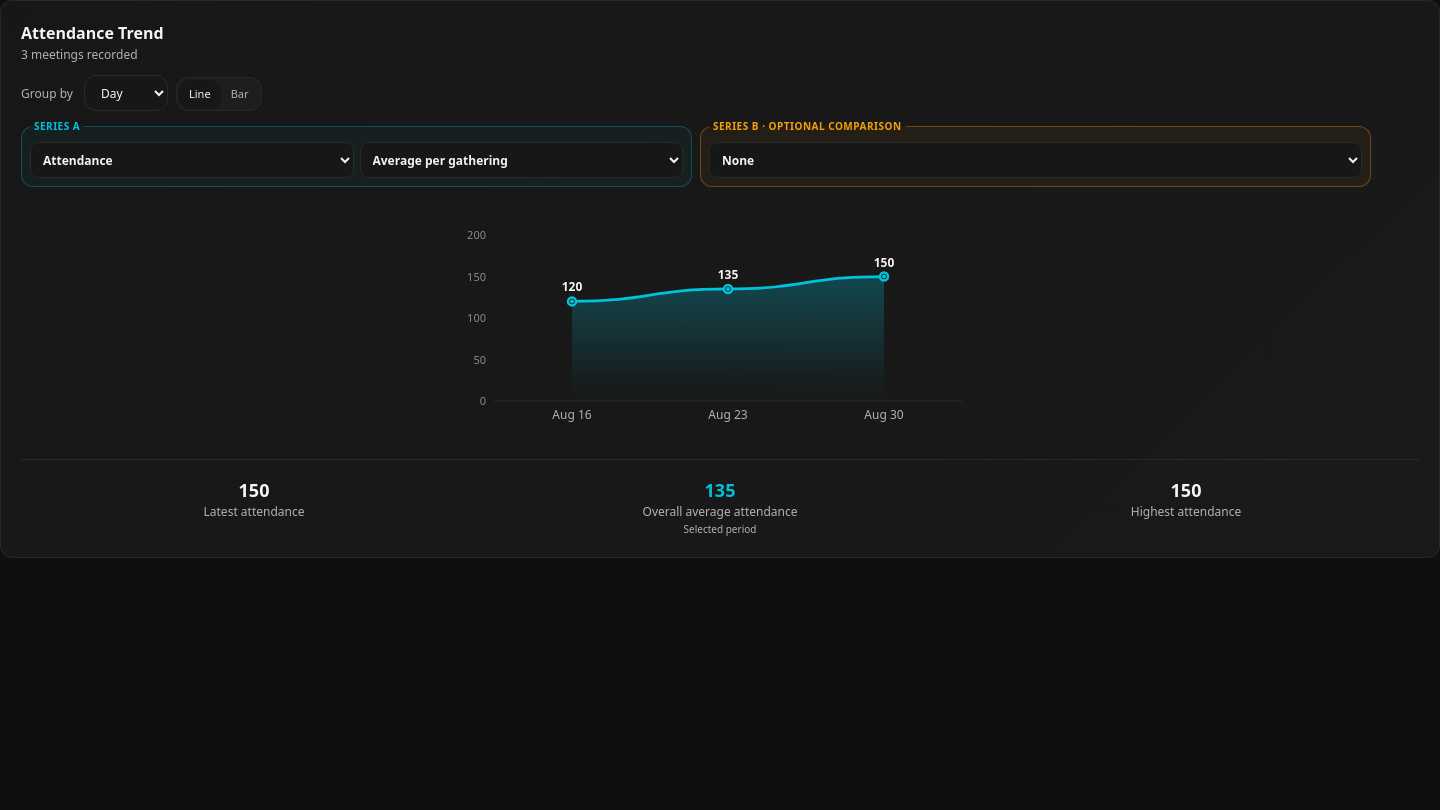
AttendanceTrend › can compare average attendance with actual total salvation decisions
The width and height of the screenshot is (1440, 810).
Step 1. Select "Month" in the dropdown named "Chart time scale" → (126,93), box [84,75,168,111]
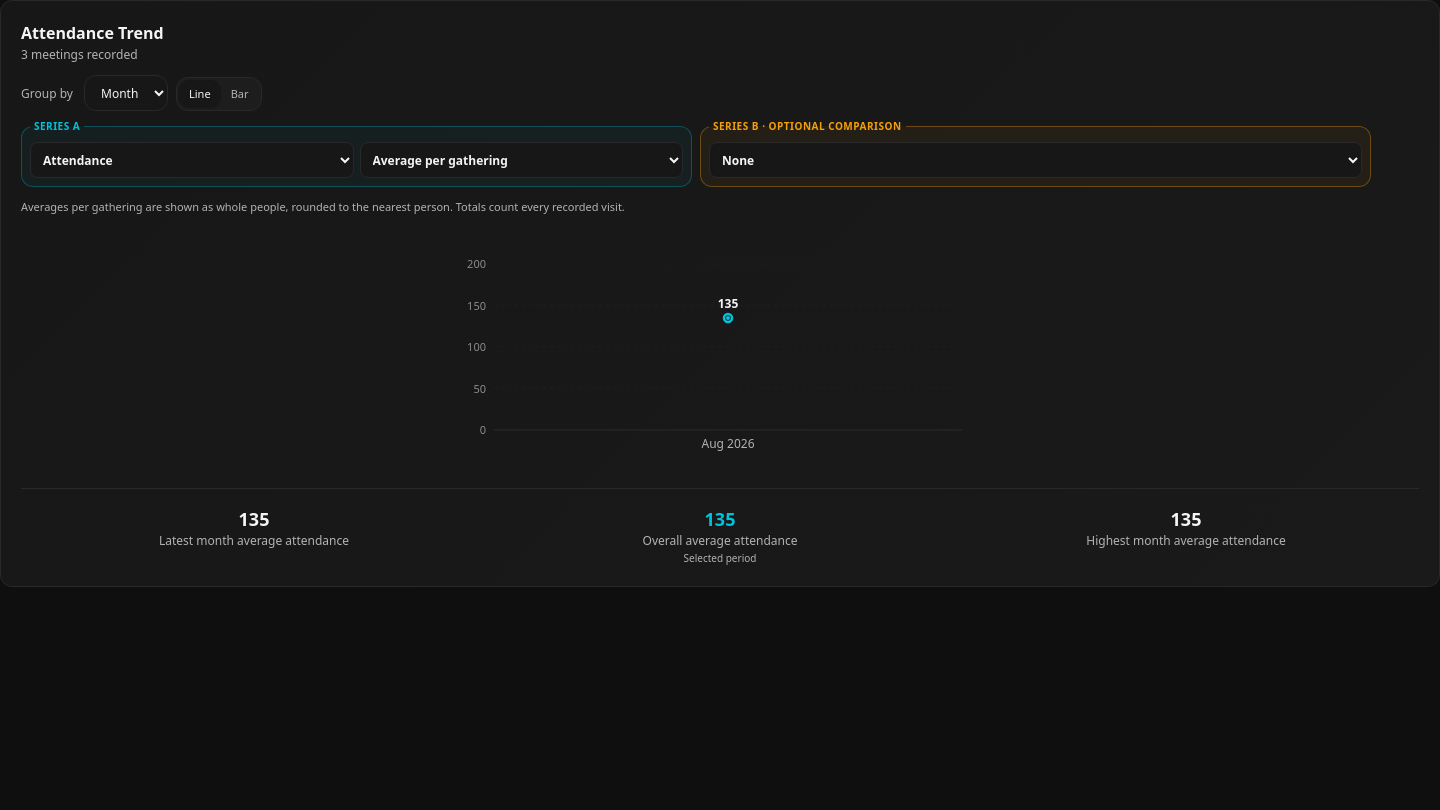
Step 2. Select "Salvation decisions" in the dropdown named "Compare attendance with" → (1036,160), box [709,142,1362,178]
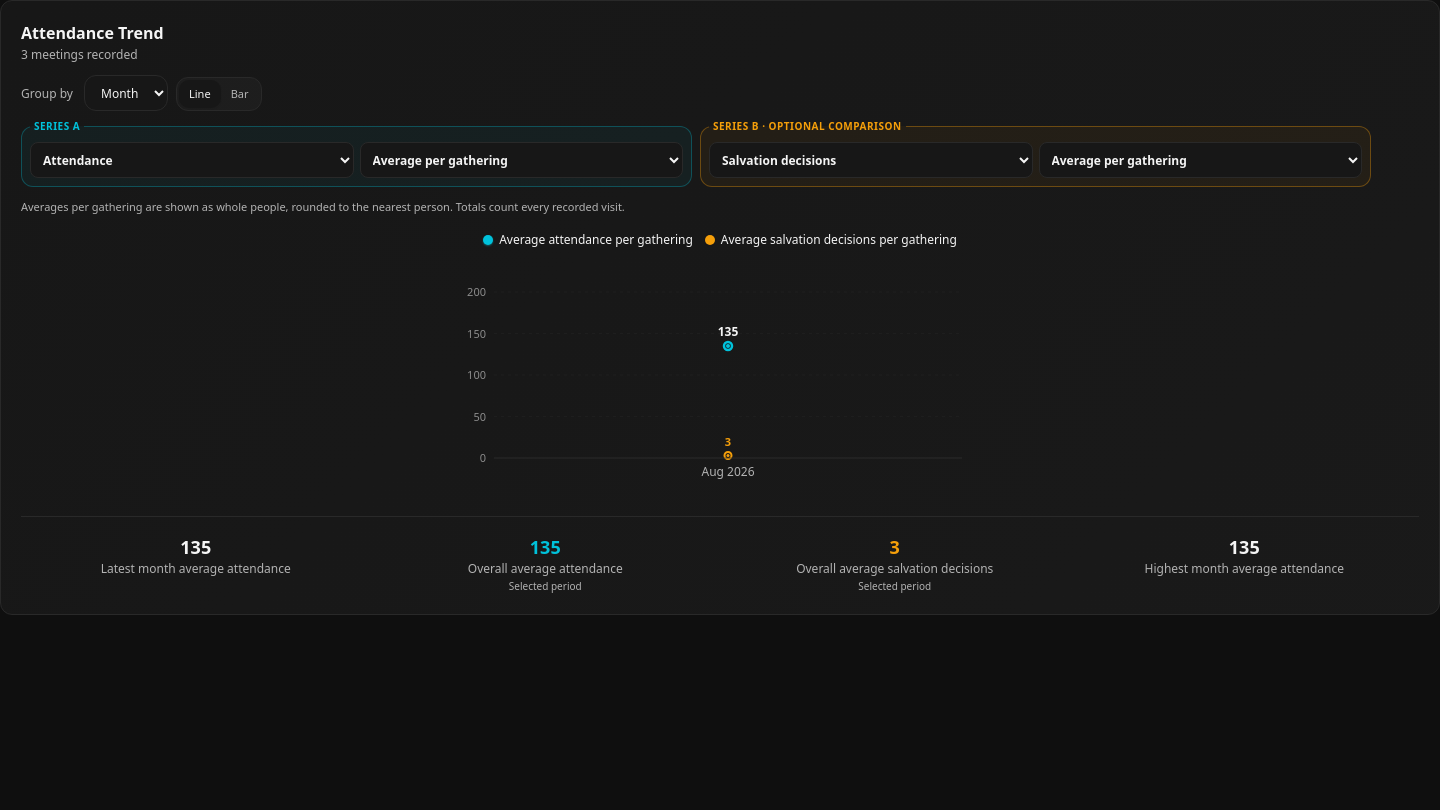
Step 3. Select "Actual total count" in the dropdown named "Comparison calculation" → (1200,160), box [1038,142,1362,178]
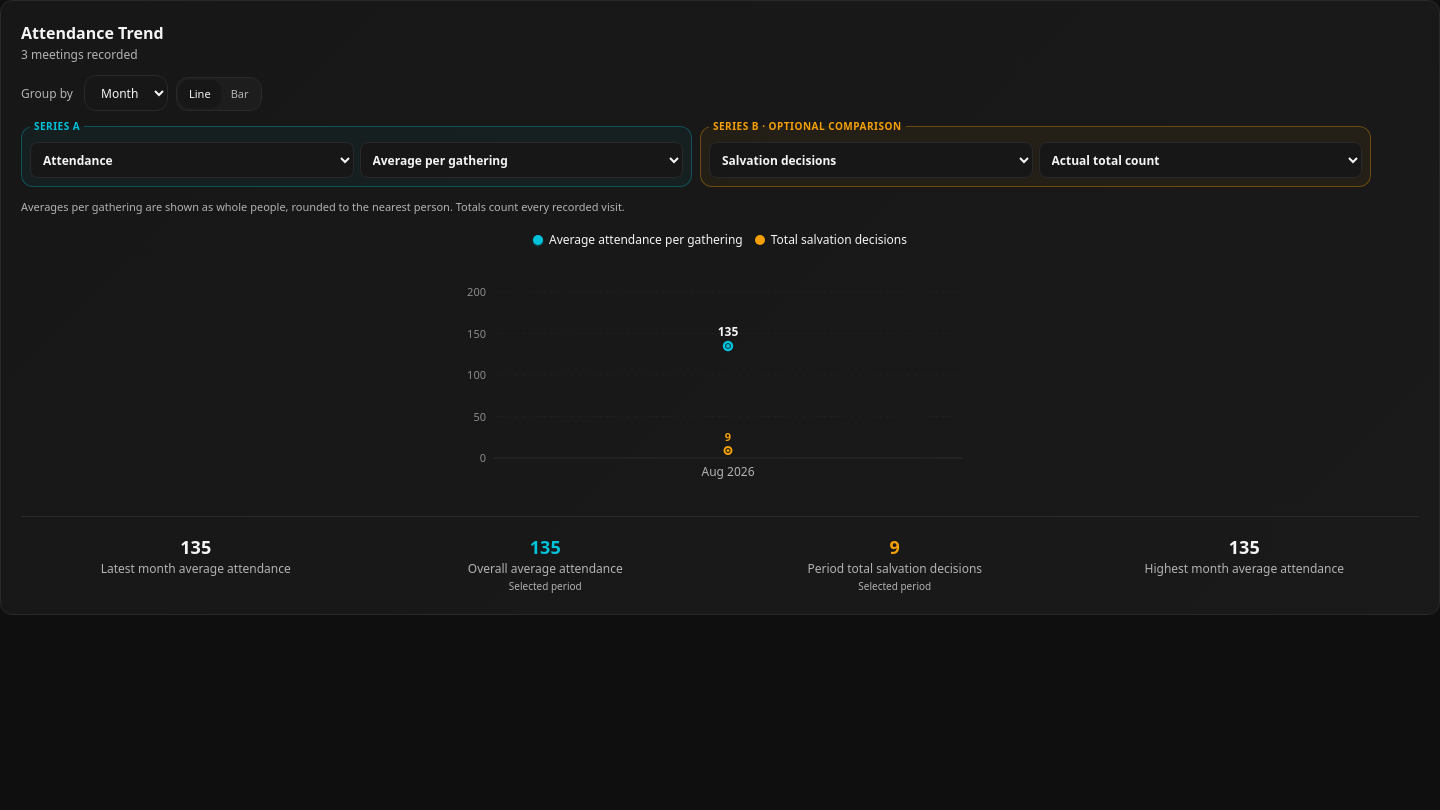
Check: the text "Overall average attendance" is shown, box [468,560,623,576]
Check: the text "Period total salvation decisions" is shown, box [807,560,982,576]
